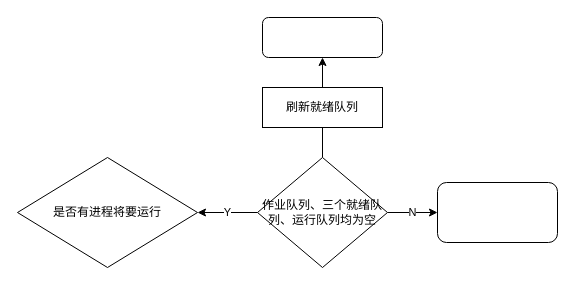
Image size: 575x285. Some labels were removed from this diagram. Here are the shapes that lost their labels. From the top down, the centre of each, then its label:
At point 322,37: "开始".
At point 497,212: "结束调度，输出甘特图等".
